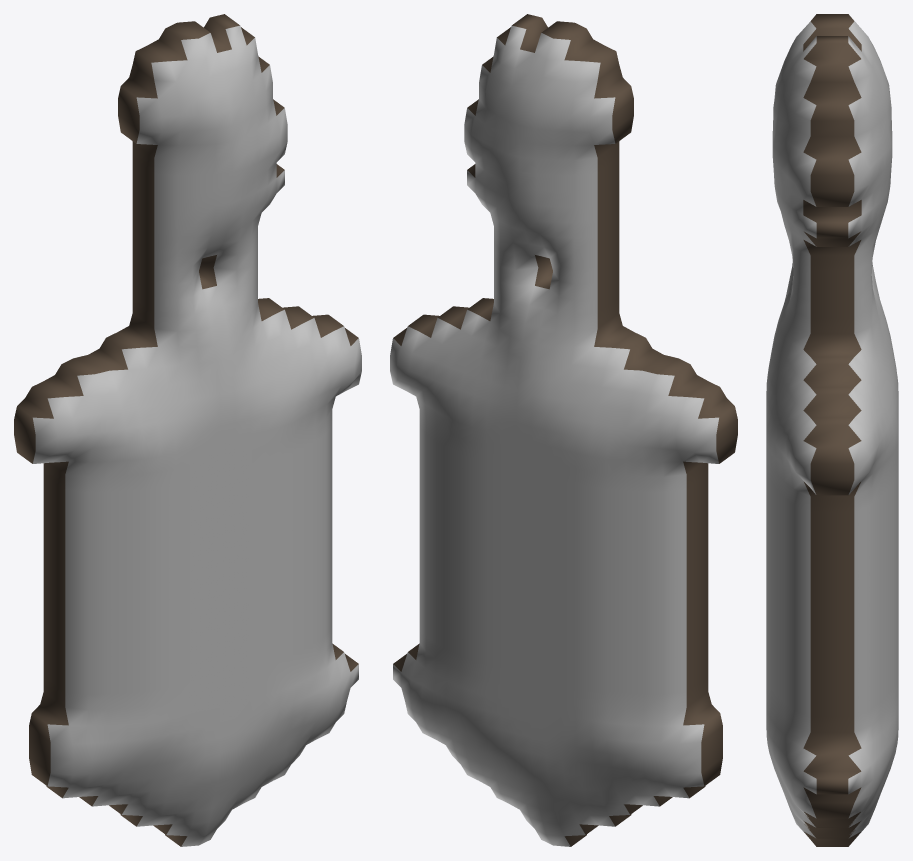
Rendered from gate_pillar.glb.
The picture shows the model from 3 angles, left to right: view 1: azimuth 30°, elevation 25°; view 2: azimuth 150°, elevation 25°; view 3: azimuth 270°, elevation 25°; orthographic projection.
Parts seen in each view (by area): view 1: gate_pillar; view 2: gate_pillar; view 3: gate_pillar.
Boxes of the visible parts, <box> form: gate_pillar: <box>14,14,361,846</box>; gate_pillar: <box>390,14,737,846</box>; gate_pillar: <box>766,14,898,846</box>.
Size of the model in its own units: 1.78 by 4.2 by 0.6143.
